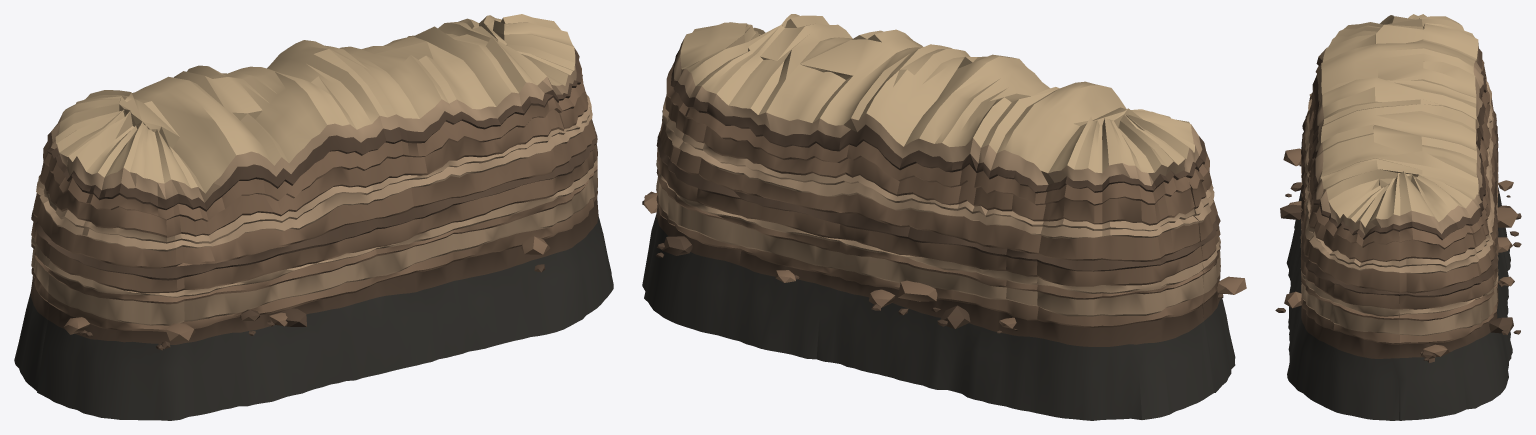
File: rocha-quadrante.glb
3 renders of one model, left to right at view 1: azimuth 30°, elevation 25°; view 2: azimuth 150°, elevation 25°; view 3: azimuth 270°, elevation 25°, orthographic. The views are drawn at different scales.
Parts seen in each view (by area): view 1: rocha-quadrante; view 2: rocha-quadrante; view 3: rocha-quadrante.
Part boxes in pixels (x1,y1,x2,y2): rocha-quadrante: [14, 14, 613, 420]; rocha-quadrante: [642, 14, 1246, 420]; rocha-quadrante: [1275, 14, 1521, 420].
Bounding box in the file's own units: 383 × 172 × 177.
